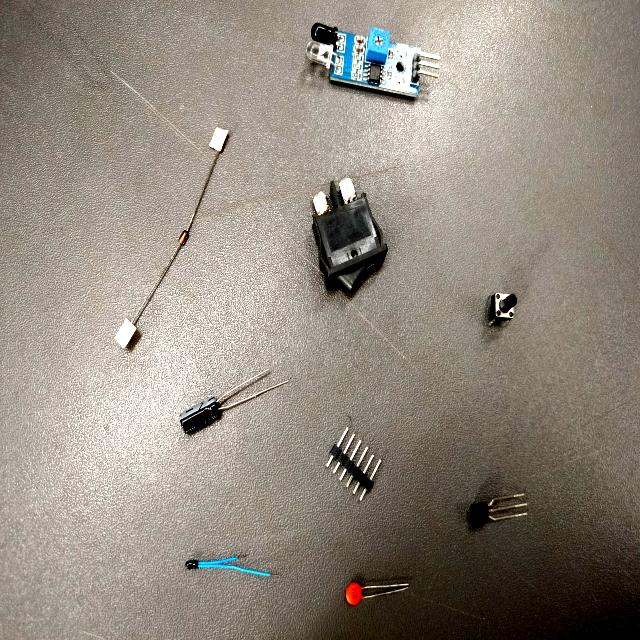capacitor: (181, 399, 223, 435), (346, 582, 380, 605)
